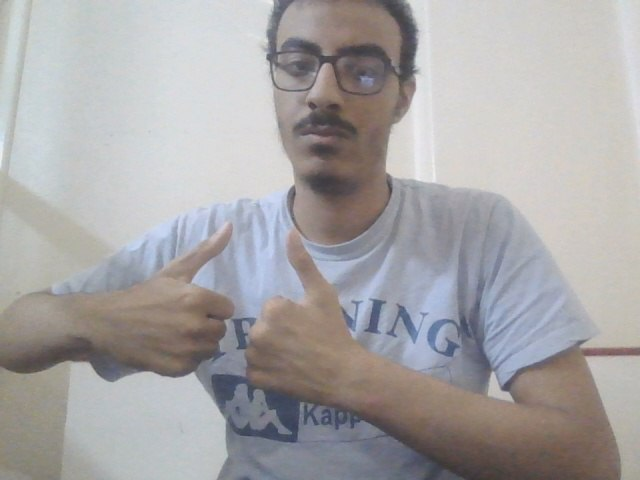Game: (84, 202, 400, 419)
